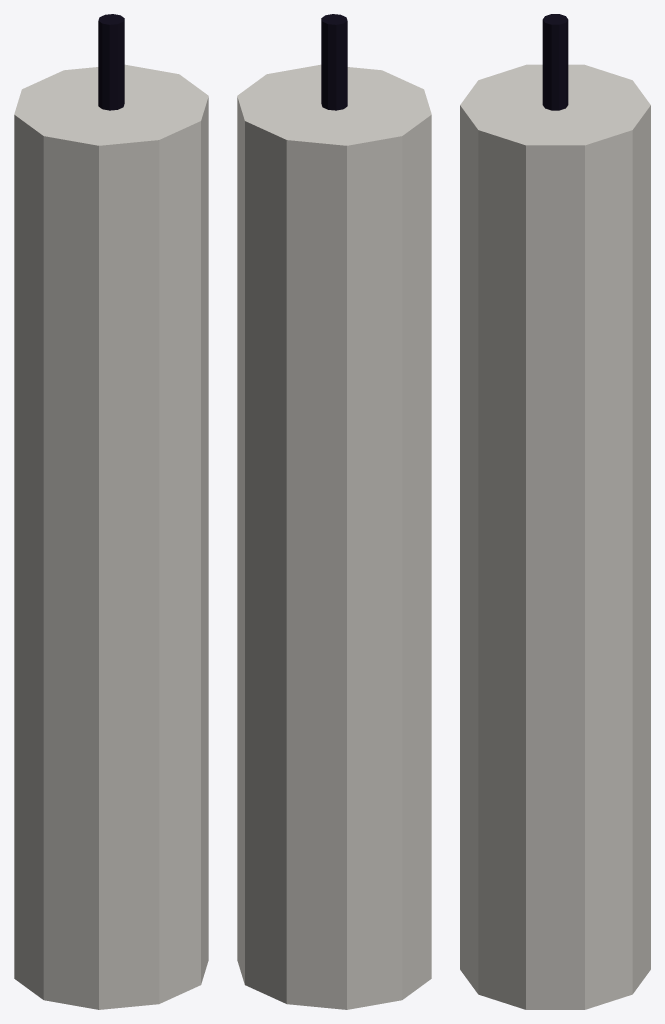
Rendered from Kerze.fbx.
3 renders of one model, left to right at view 1: azimuth 30°, elevation 25°; view 2: azimuth 150°, elevation 25°; view 3: azimuth 270°, elevation 25°, orthographic.
Visible parts, largest first — view 1: Kerze; view 2: Kerze; view 3: Kerze.
Part boxes in pixels (bbox=[...]): Kerze: bbox=[14, 14, 208, 1009]; Kerze: bbox=[237, 14, 431, 1009]; Kerze: bbox=[460, 14, 650, 1009].
Size of the model in its own units: 10 by 54.96 by 10.
